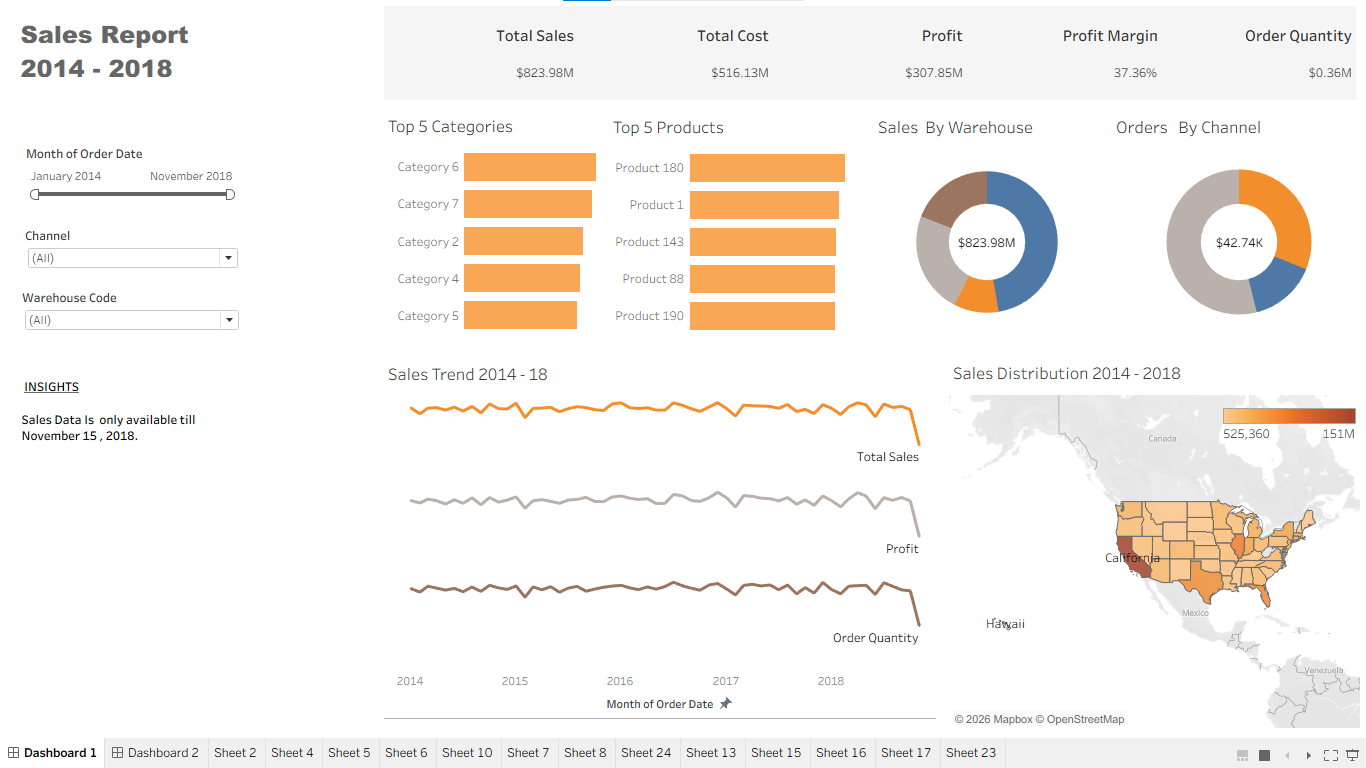

What the dashboard file says about the page in this screenshot:
{"tool":"tableau","page":{"name":"Executive Overview","canvas":[1000,1000],"units":"permille","ordinal":0},"visuals":[{"type":"worksheet","title":"Sheet 2","mark":"Automatic","box":[195.7,3.3,800,137.9]},{"type":"text","box":[1.7,5,191.3,134.6]},{"type":"worksheet","title":"Sheet 7","mark":"Automatic","rows":["Product Category"],"cols":["Total Sales"],"box":[199.1,144.5,160.2,337.2]},{"type":"legend","title":"Sheet 5","param":"[federated.06air860cprwcb10mcxhv13o3nai].[none:Channel:nk]","box":[910,144.5,84.9,129.6]},{"type":"worksheet","title":"Sheet 6","mark":"Automatic","rows":["Product Name"],"cols":["Total Sales"],"box":[371.4,147.8,136.8,335.6]},{"type":"worksheet","title":"Sheet 5","mark":"Pie","cols":["Calculation_0318046120759299","Calculation_0318046120759299"],"box":[519.5,151.2,181.8,328.9]},{"type":"worksheet","title":"Sheet 10","mark":"Pie","cols":["Calculation_0606393168703489","Calculation_0606393168703489"],"box":[707.4,156.2,193.1,323.9]},{"type":"filter","title":"Sheet 4","param":"[federated.06air860cprwcb10mcxhv13o3nai].[tmn:OrderDate:qk]","box":[19.1,196,155.8,106.4]},{"type":"legend","title":"Sheet 10","param":"[federated.06air860cprwcb10mcxhv13o3nai].[none:Warehouse Code:nk]","box":[911.7,297.3,88.3,162.8]},{"type":"filter","title":"Sheet 2","param":"[federated.06air860cprwcb10mcxhv13o3nai].[none:Channel:nk]","box":[18.2,307.4,158.4,81.1]},{"type":"filter","title":"Sheet 2","param":"[federated.06air860cprwcb10mcxhv13o3nai].[none:Warehouse Code:nk]","box":[16.4,391.9,161,84.5]},{"type":"text","box":[13.8,493.4,173.2,496.7]},{"type":"worksheet","title":"Sheet 8","mark":"Multipolygon","box":[568,511.6,427.7,475.1]},{"type":"worksheet","title":"Sheet 4","mark":"Line","rows":["Total Sales","Calculation_0318046109040640","Order Quantity"],"cols":["OrderDate"],"box":[206.9,515,362.8,473.4]},{"type":"legend","title":"Sheet 8","param":"[federated.06air860cprwcb10mcxhv13o3nai].[sum:Total Sales:qk]","box":[892.6,547.3,103,60.8]}]}

Visuals, with their boxes on the dashboard's canvas, which has no fixed pixel size, in thousandths of its width and height (x1, y1, x2, y2). These are canvas units, not pixel positions in the 1366x768 screenshot, which may show the page scaled, cropped or inside an application window:
"Sheet 2" worksheet: BBox(196, 3, 996, 141)
text: BBox(2, 5, 193, 140)
"Sheet 7" worksheet: BBox(199, 144, 359, 482)
"Sheet 5" legend: BBox(910, 144, 995, 274)
"Sheet 6" worksheet: BBox(371, 148, 508, 483)
"Sheet 5" worksheet (Pie marks): BBox(520, 151, 701, 480)
"Sheet 10" worksheet (Pie marks): BBox(707, 156, 900, 480)
"Sheet 4" filter: BBox(19, 196, 175, 302)
"Sheet 10" legend: BBox(912, 297, 1000, 460)
"Sheet 2" filter: BBox(18, 307, 177, 388)
"Sheet 2" filter: BBox(16, 392, 177, 476)
text: BBox(14, 493, 187, 990)
"Sheet 8" worksheet (Multipolygon marks): BBox(568, 512, 996, 987)
"Sheet 4" worksheet (Line marks): BBox(207, 515, 570, 988)
"Sheet 8" legend: BBox(893, 547, 996, 608)
